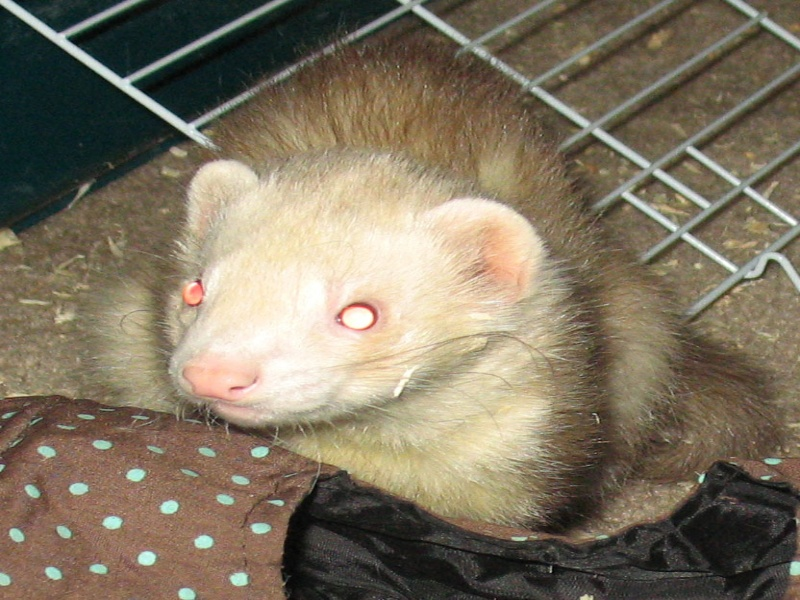minkish: (61, 55, 785, 545)
